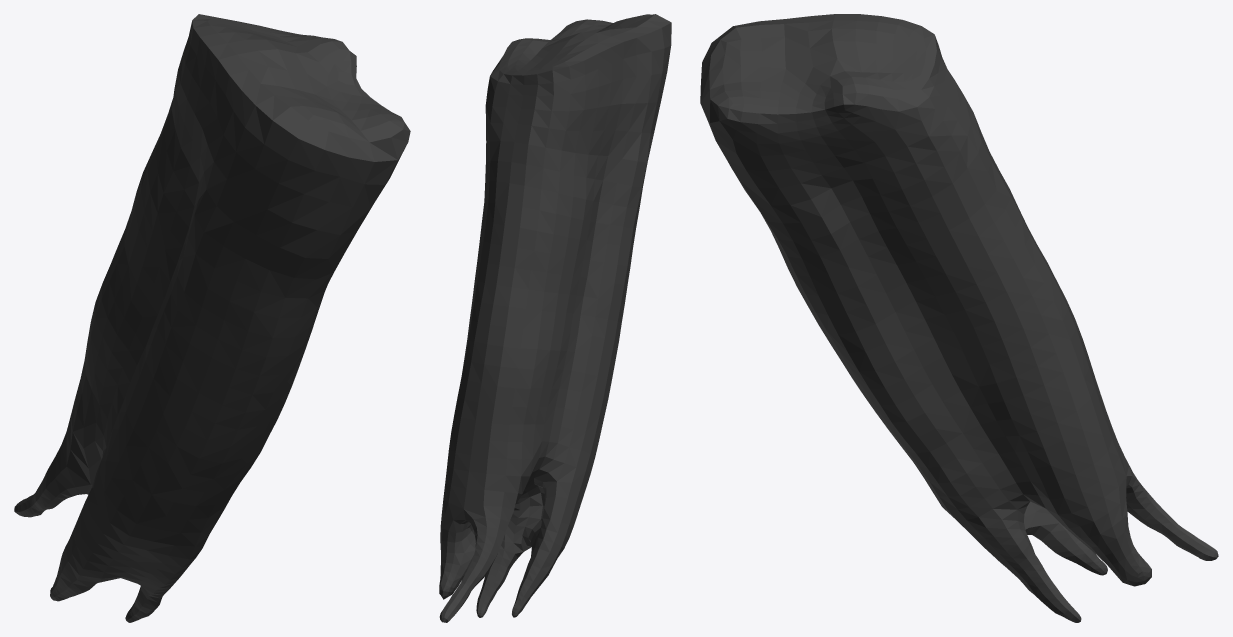
The model's file is L_mand_M2.glb.
3 views of the same model, side by side, from view 1: azimuth 30°, elevation 25°; view 2: azimuth 150°, elevation 25°; view 3: azimuth 270°, elevation 25° (orthographic). The views are drawn at different scales.
Visible parts, largest first — view 1: L_mand_M2; view 2: L_mand_M2; view 3: L_mand_M2.
Part boxes in pixels (left/top/right/bottom): L_mand_M2: left=14, top=14, right=410, bottom=622; L_mand_M2: left=439, top=14, right=671, bottom=622; L_mand_M2: left=700, top=14, right=1218, bottom=622.
Size of the model in its own units: 0.0901 by 0.3278 by 0.2614.
Materials: 1 (1 with a texture image).
